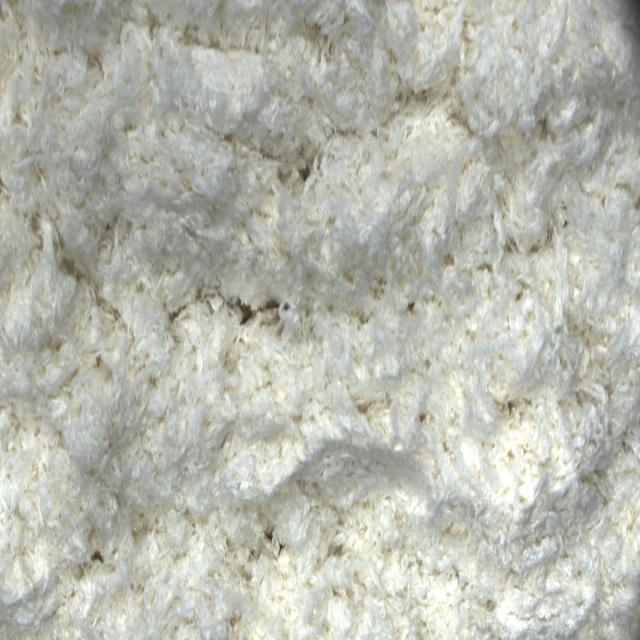dust: (230, 294, 277, 331)
